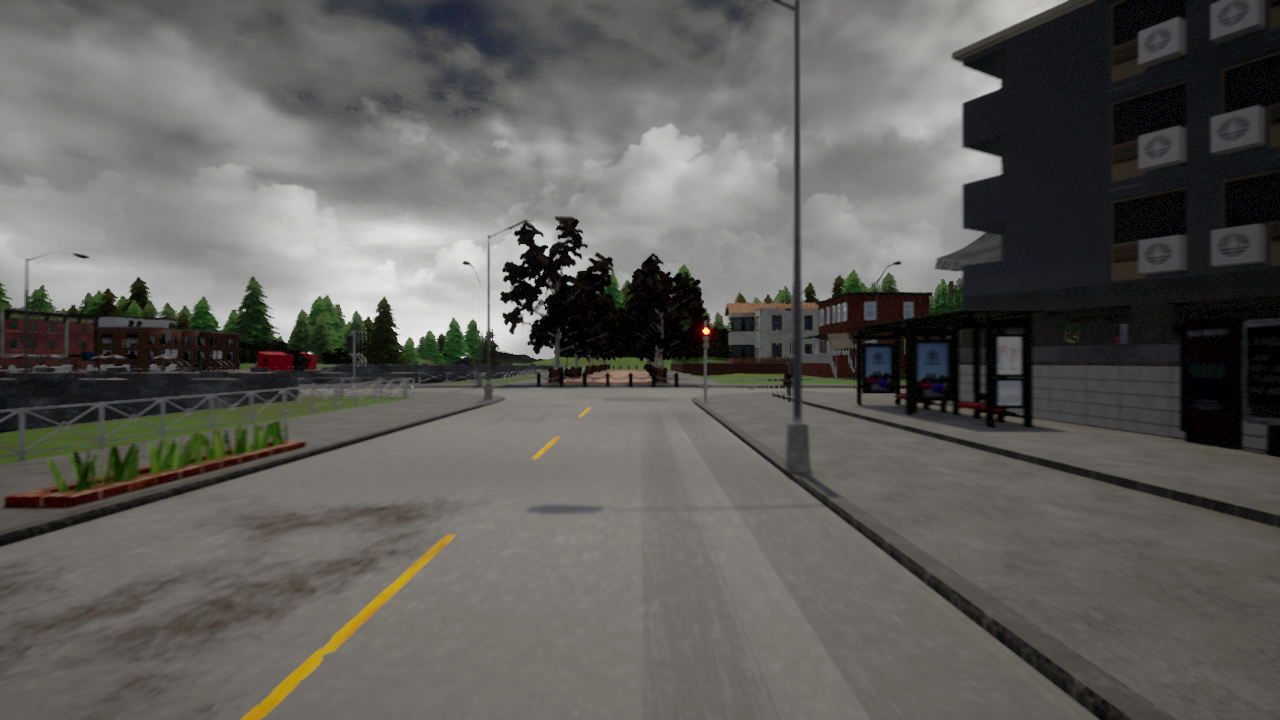red: (700, 325, 712, 351)
